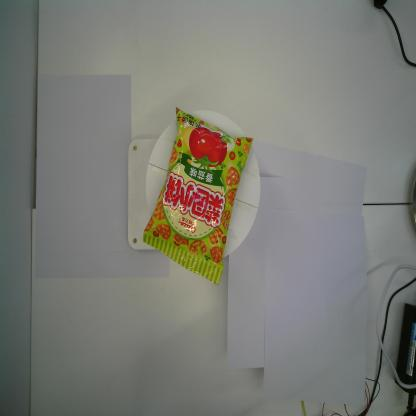Puffed Food: (140, 106, 257, 289)
